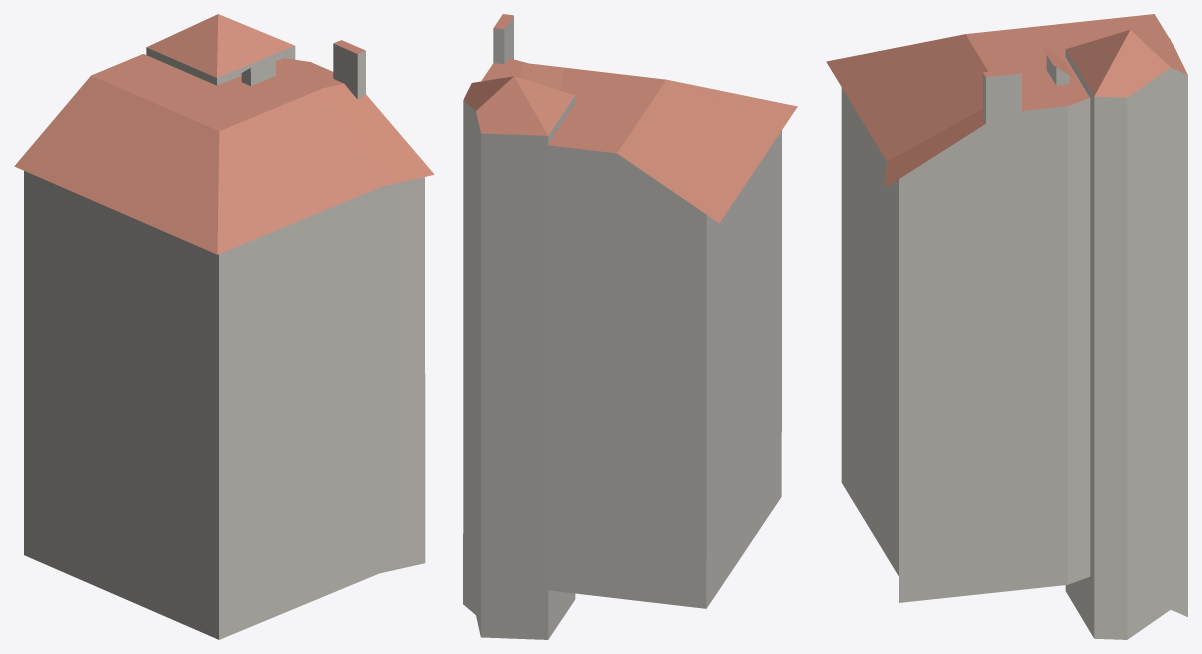
3 views of the same model, side by side, from view 1: azimuth 30°, elevation 25°; view 2: azimuth 150°, elevation 25°; view 3: azimuth 270°, elevation 25° (orthographic). The views are drawn at different scales.
Parts seen in each view (by area): view 1: swisstopo:swissbuildings3d:9dd9b299-8faf-48b9-a440-56dd450b4; view 2: swisstopo:swissbuildings3d:9dd9b299-8faf-48b9-a440-56dd450b4; view 3: swisstopo:swissbuildings3d:9dd9b299-8faf-48b9-a440-56dd450b4.
Part boxes in pixels (x1,y1,x2,y2): swisstopo:swissbuildings3d:9dd9b299-8faf-48b9-a440-56dd450b4: [14, 14, 434, 639]; swisstopo:swissbuildings3d:9dd9b299-8faf-48b9-a440-56dd450b4: [463, 14, 797, 639]; swisstopo:swissbuildings3d:9dd9b299-8faf-48b9-a440-56dd450b4: [826, 14, 1187, 639].
Size of the model in its own units: 21.05 by 36.14 by 20.28.
